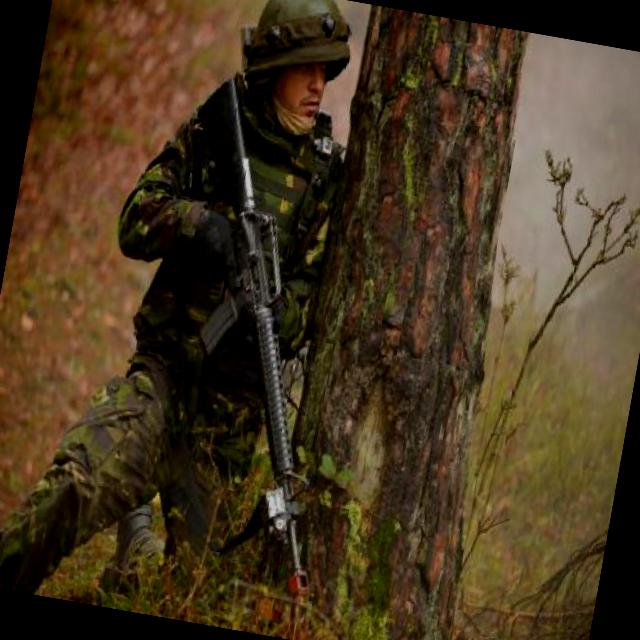Person: (0, 0, 373, 633)
